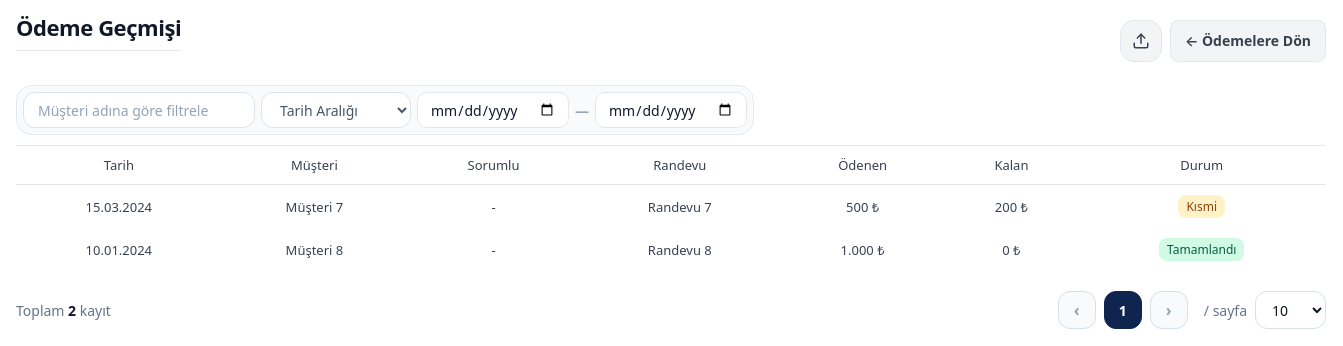
Test case: PaymentHistoryPage › filters out rows outside the selected date range
expect the text "Müşteri 7" is shown: met, box left=222, top=184, right=407, bottom=228
expect the text "Müşteri 8" is shown: met, box left=222, top=228, right=407, bottom=271
// the second date input is the "to" date — exclude the 2024-03-15 payment
Type "2024-02-01" into the 2nd date field at (671, 110), box left=595, top=92, right=747, bottom=128
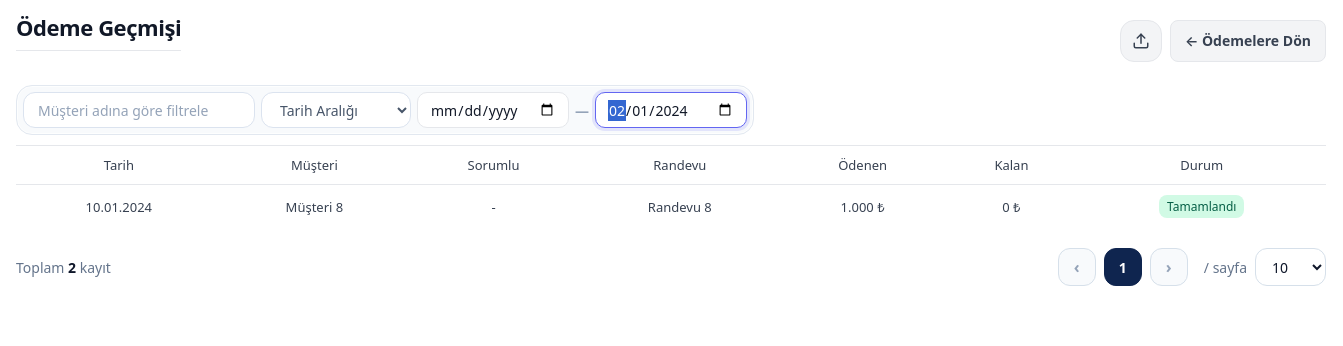
expect the text "Müşteri 8" is shown: met, box left=222, top=184, right=407, bottom=228
expect the text "Müşteri 7" is gone: met
